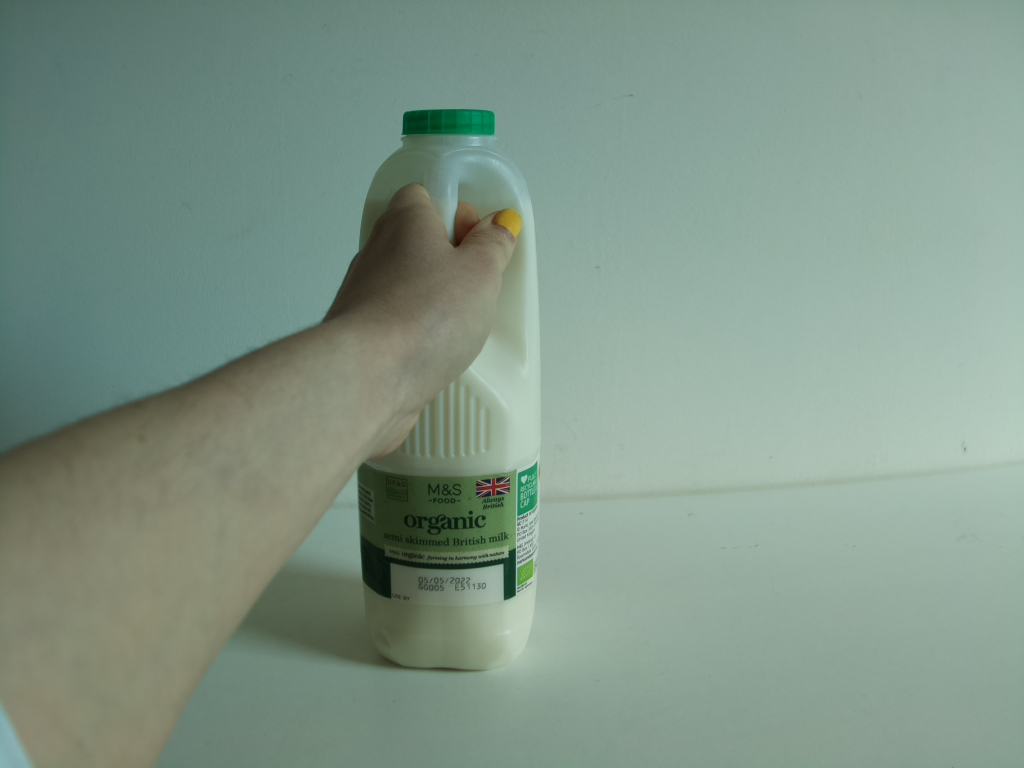milk: (340, 101, 552, 682)
